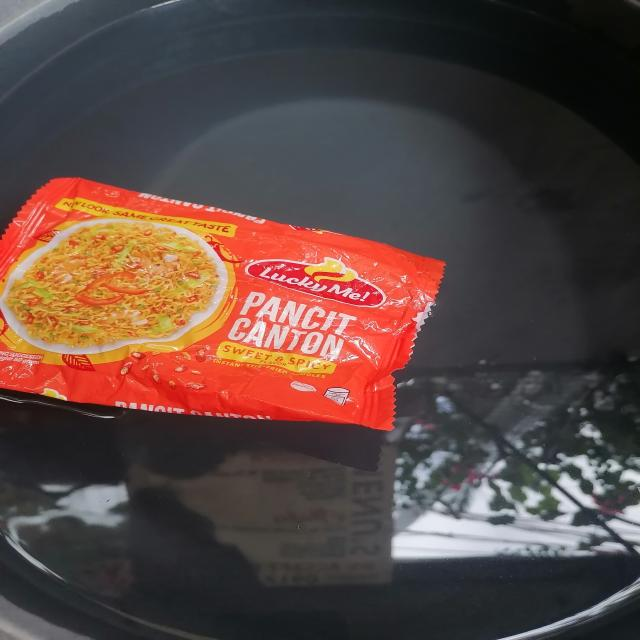Plastic Wrapper: (0, 178, 444, 430)
